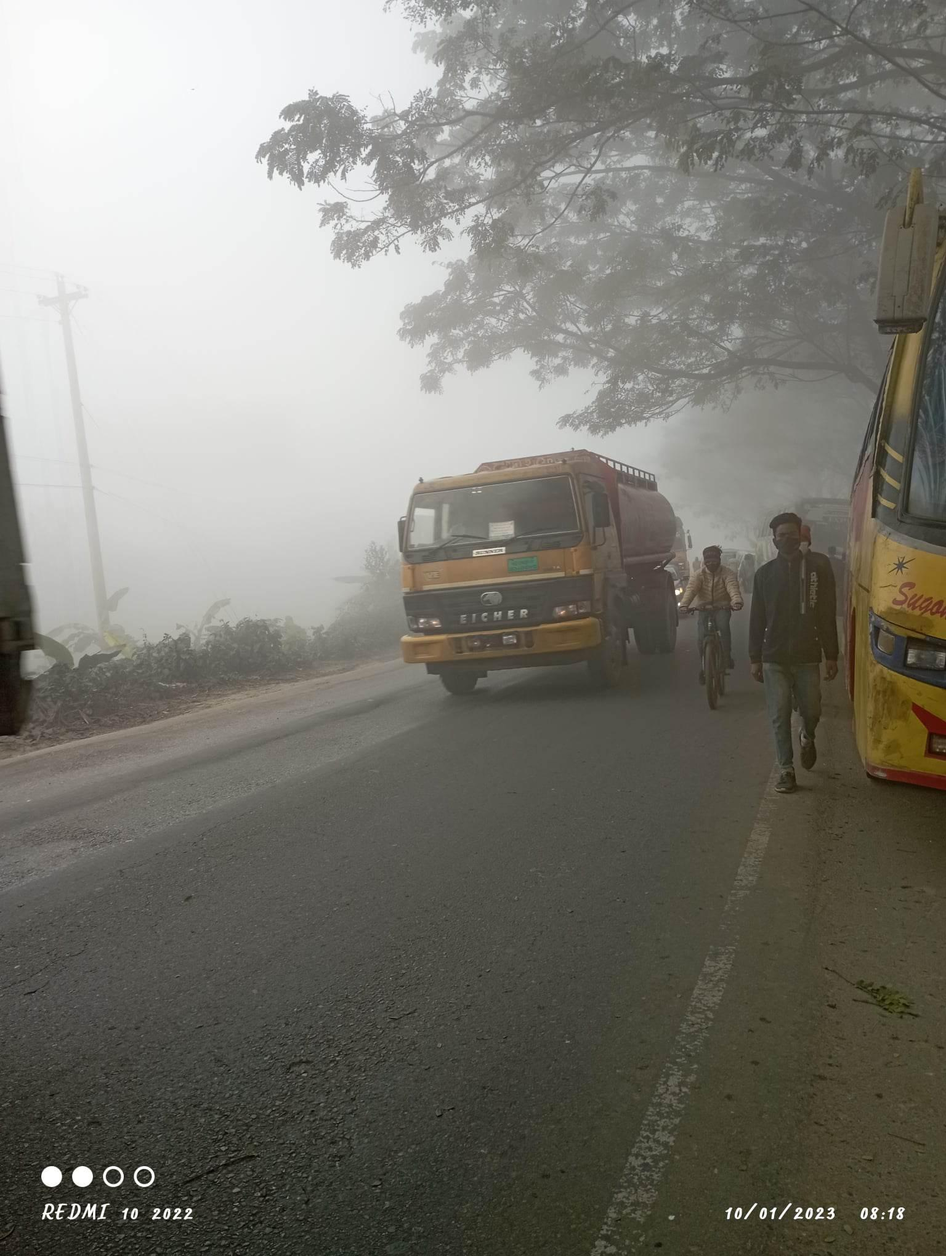Bus: (757, 470, 868, 607)
Truck: (323, 432, 716, 694)
